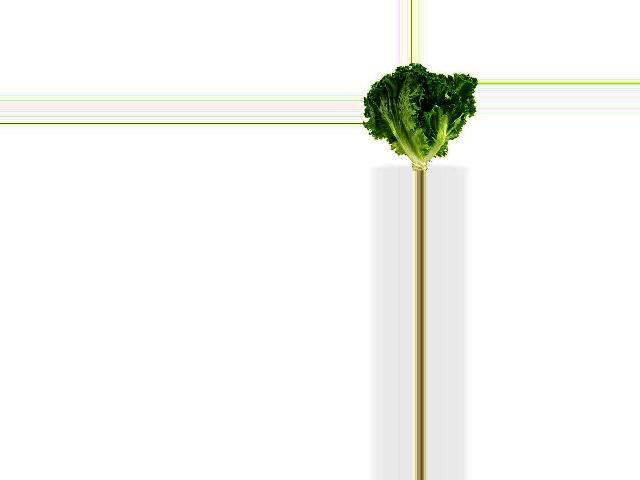lettuce: (363, 64, 476, 171)
